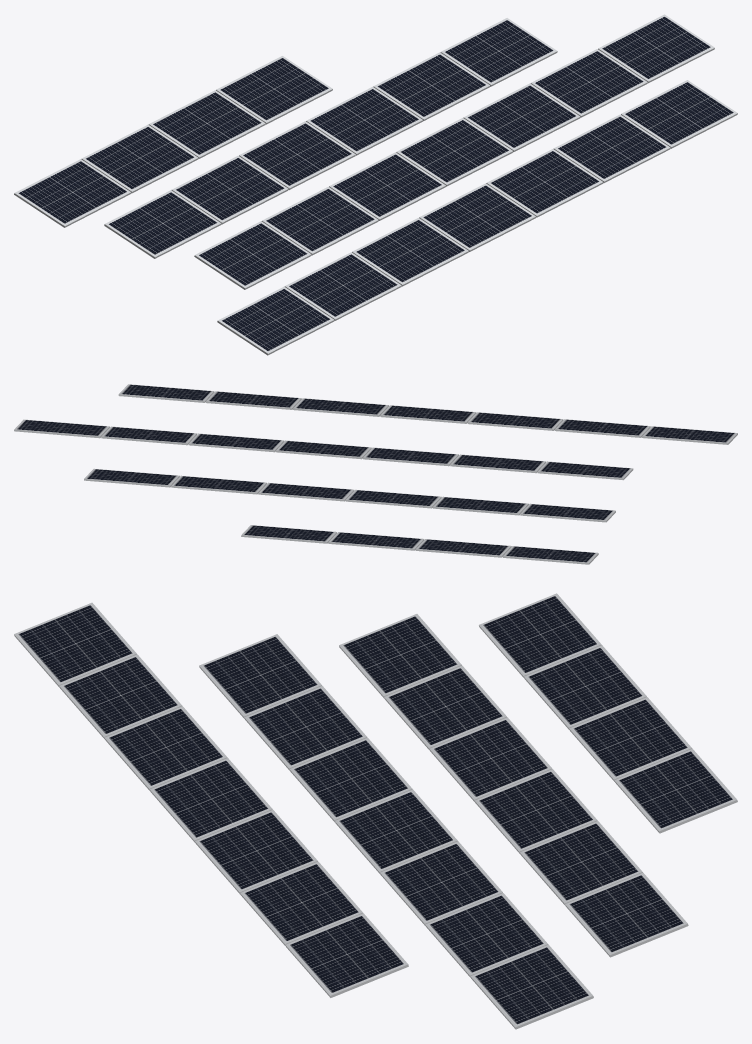
File: terrace_tilted_ar.glb
The picture shows the model from 3 angles, top to bottom: view 1: azimuth 30°, elevation 25°; view 2: azimuth 150°, elevation 25°; view 3: azimuth 270°, elevation 25°; orthographic projection. The views are drawn at different scales.
Parts seen in each view (by area): view 1: RoofSolar; view 2: RoofSolar; view 3: RoofSolar.
Boxes of the visible parts, x1,y1,x2,y2 form: RoofSolar: (14,14,737,355); RoofSolar: (14,384,737,564); RoofSolar: (14,593,737,1029).
Size of the model in its own units: 13.16 by 0.433 by 9.54.
2 materials, 1 textured.
